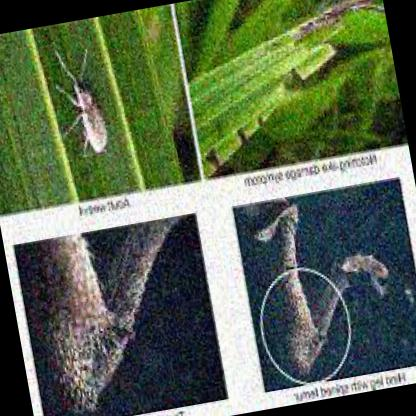ash weevil: (72, 81, 110, 152)
